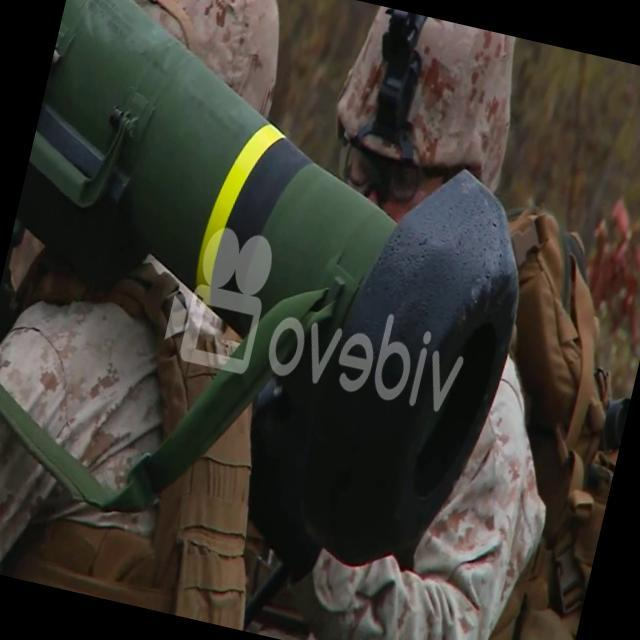rocket: (0, 0, 568, 583)
